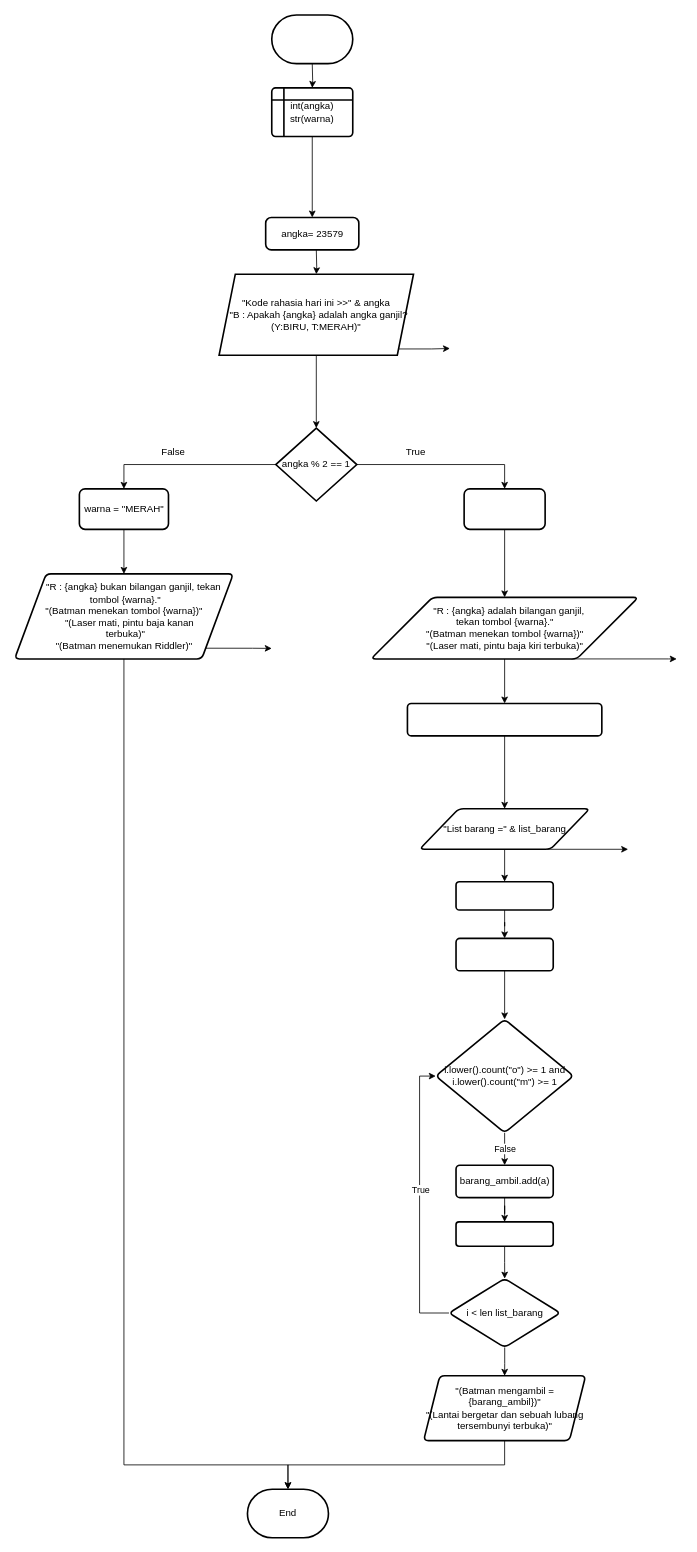
Some shapes in this 697 by 1552 pixel diagram are drawn without their labels. The centre of each missing label's shape, as x and y in pixels:
barang_ambil = set(): point (504, 895)
i += 1: point (504, 1234)
i = 0: point (504, 954)
list_barang = ["Lampu", "Kotak masuk", "Obor emas", "Peta kuno", "Gembok tua"]: point (504, 719)
Start: point (312, 39)
warna = "BIRU": point (504, 509)
